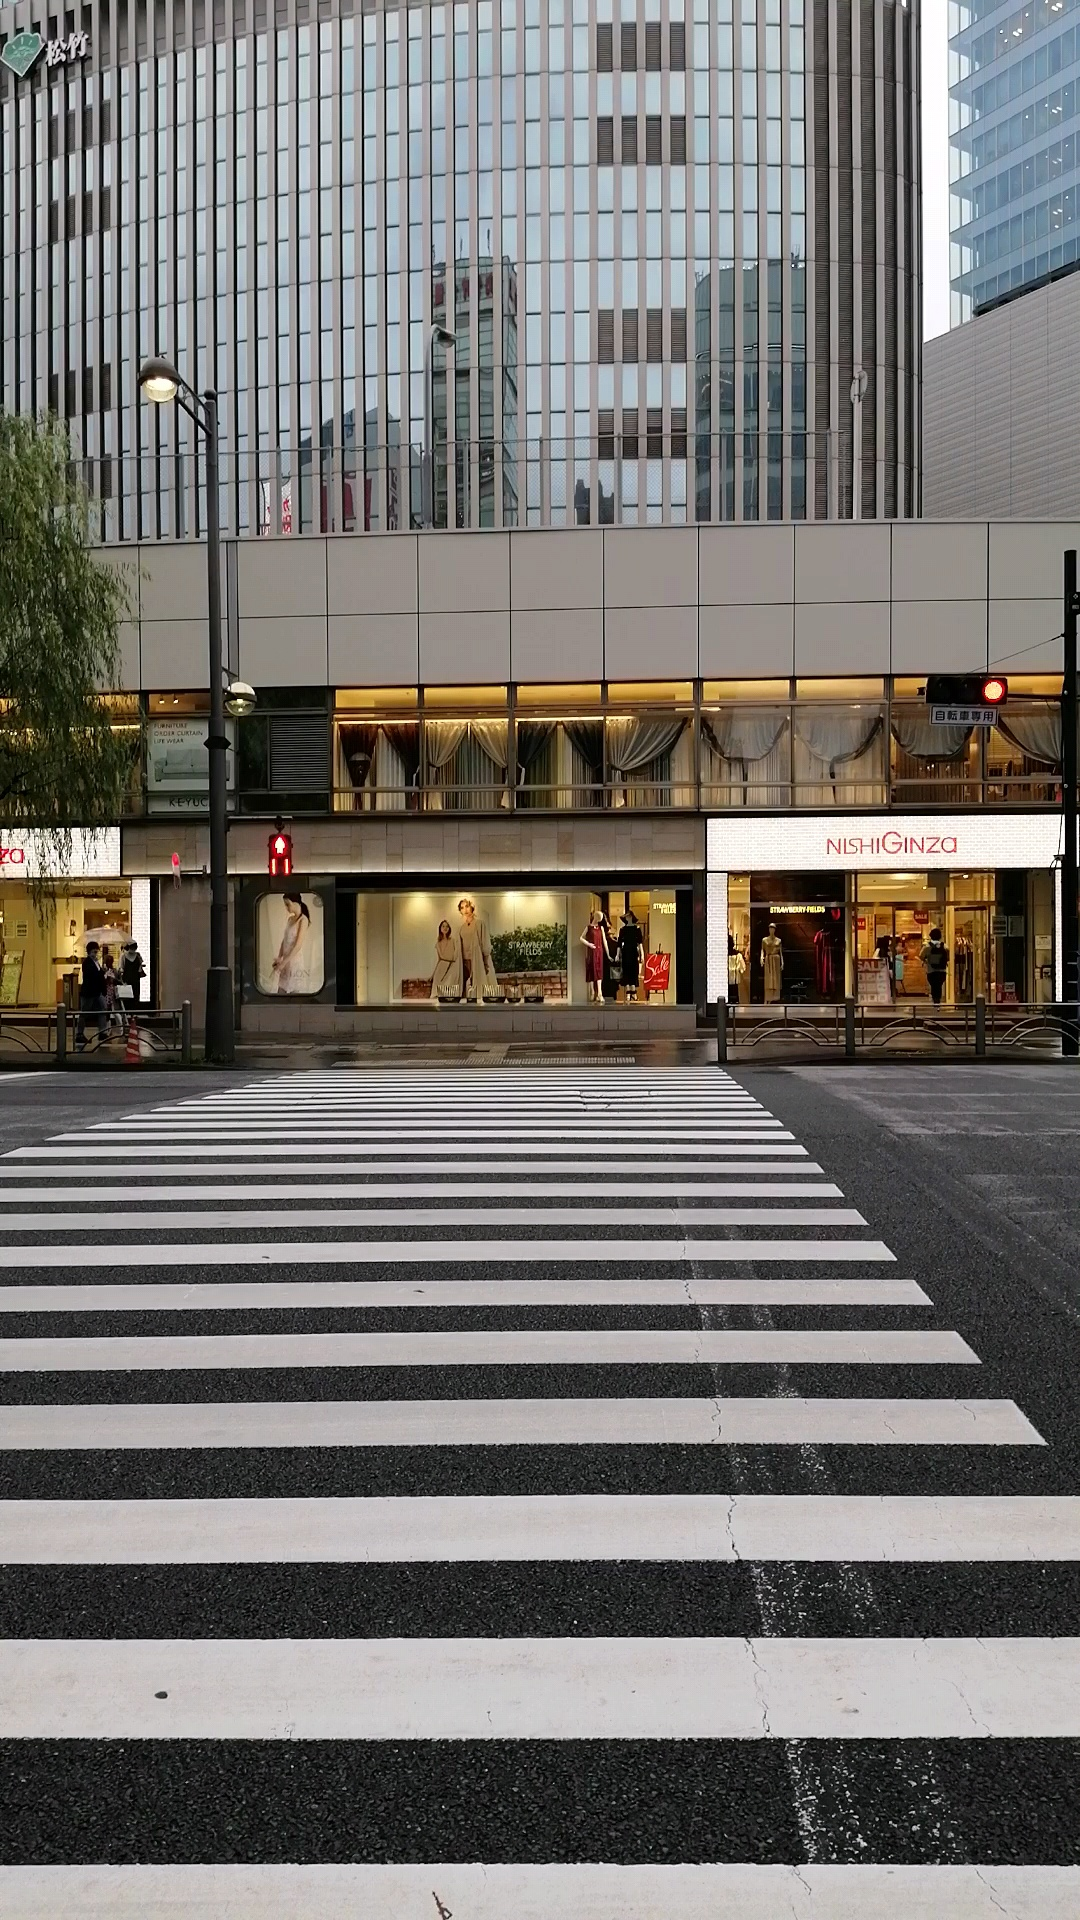red: (266, 832, 291, 880)
